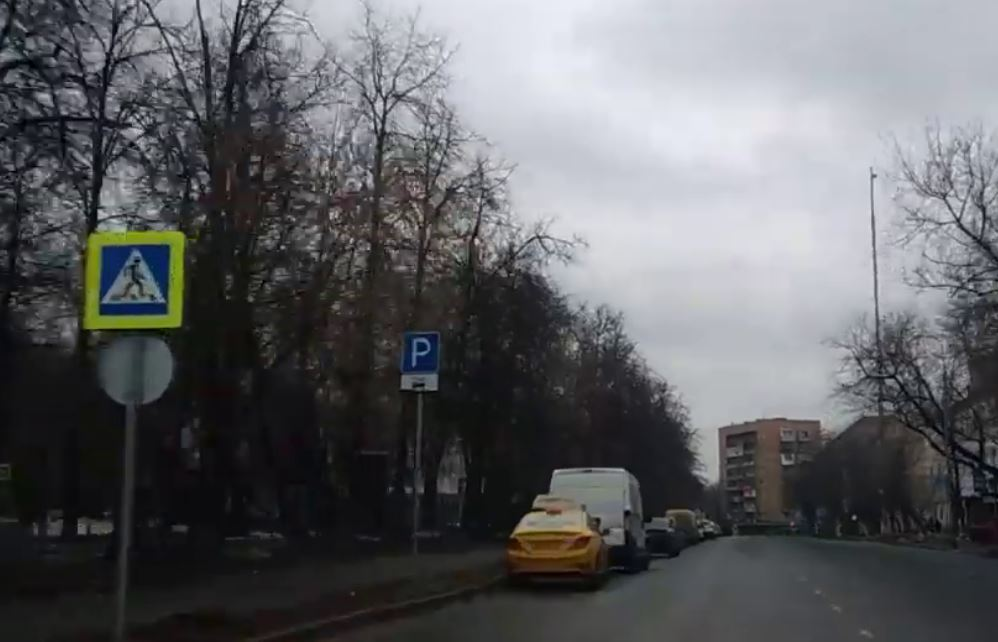Yaya Gecidi: (92, 244, 166, 316)
